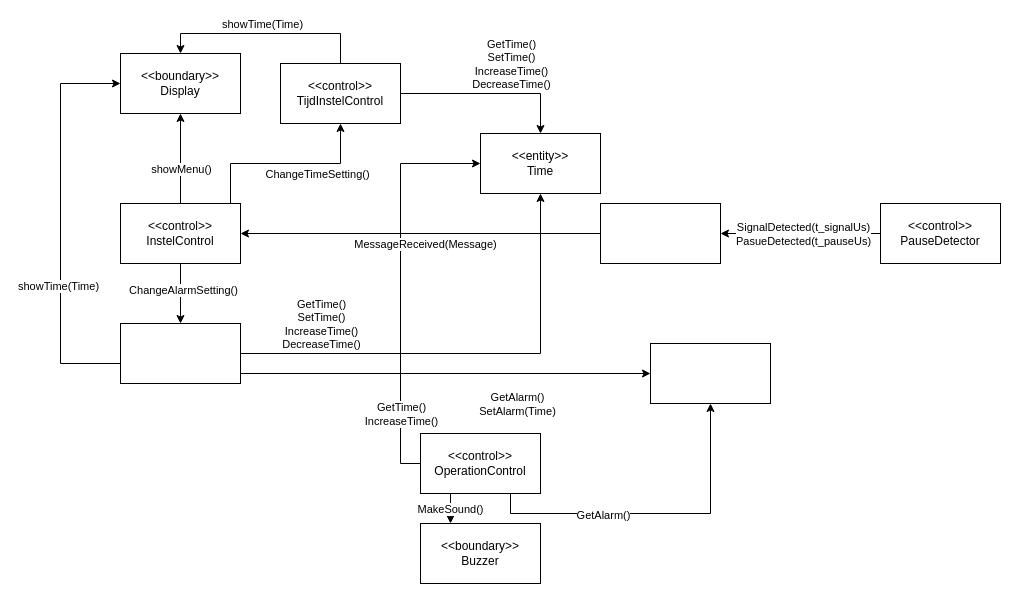
Image size: 1018x601. Some labels were removed from this diagram. Each missing label, with the centre of its shape:
"<<control>> AlarmInstelControl" goes at point 180,353.
"<<control>> NecReceiver" goes at point 660,233.
"<<entity>> Alarm" goes at point 710,373.
